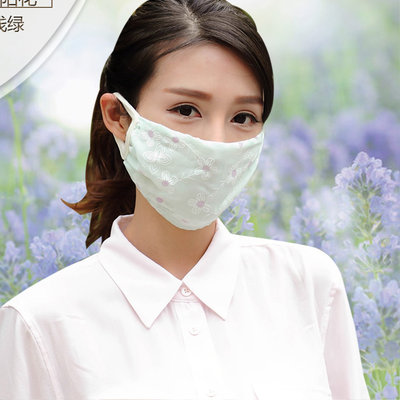face_mask: (131, 40, 267, 220)
